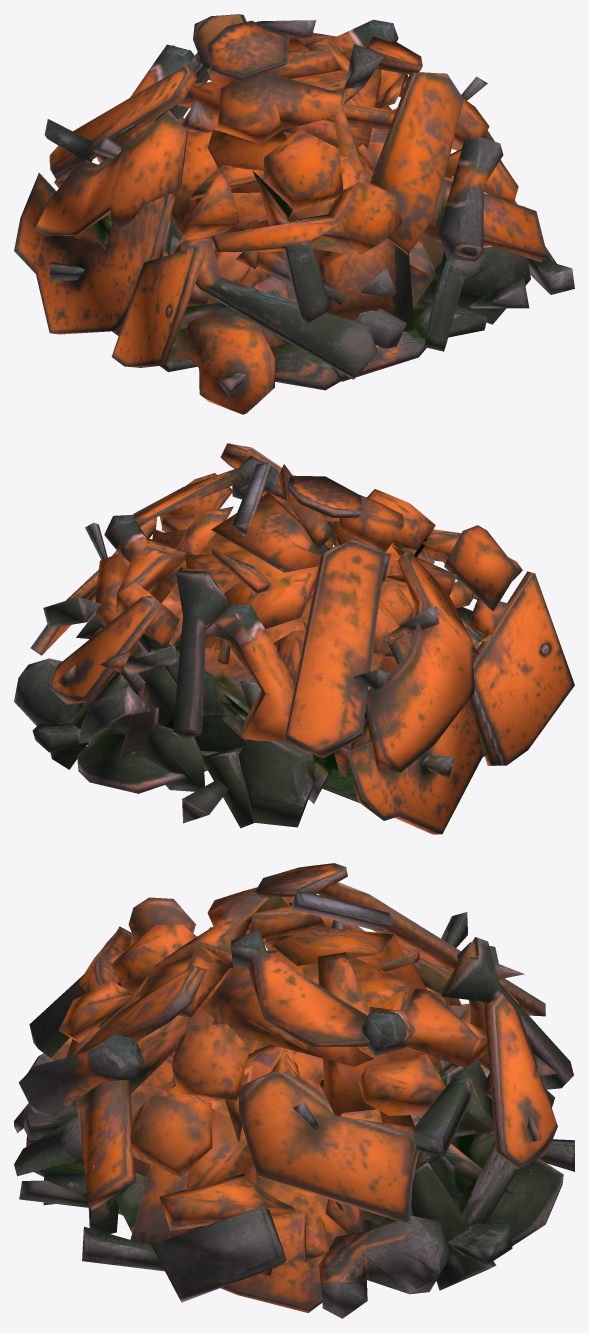
The model's file is loot_scrap_medium.glb.
3 views of the same model, one above another, from view 1: azimuth 30°, elevation 25°; view 2: azimuth 150°, elevation 25°; view 3: azimuth 270°, elevation 25° (orthographic). The views are drawn at different scales.
Size of the model in its own units: 1 by 0.6577 by 1.
1 material, 1 textured.
